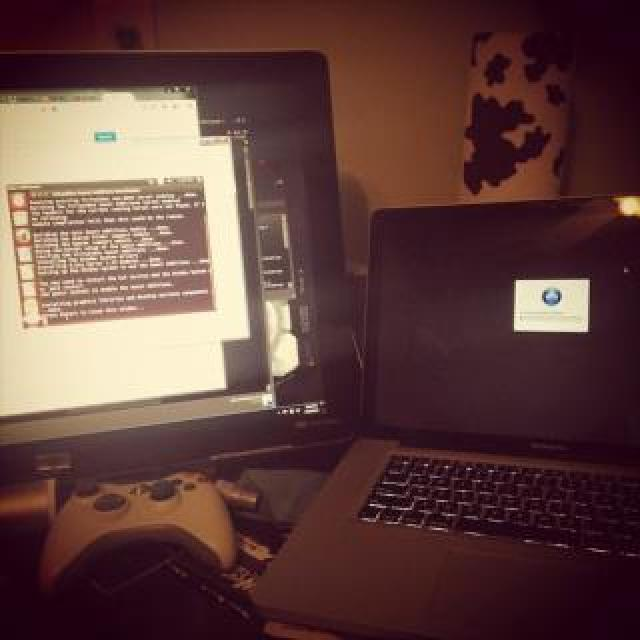laptop_computer: (0, 39, 343, 534), (358, 196, 640, 640)
